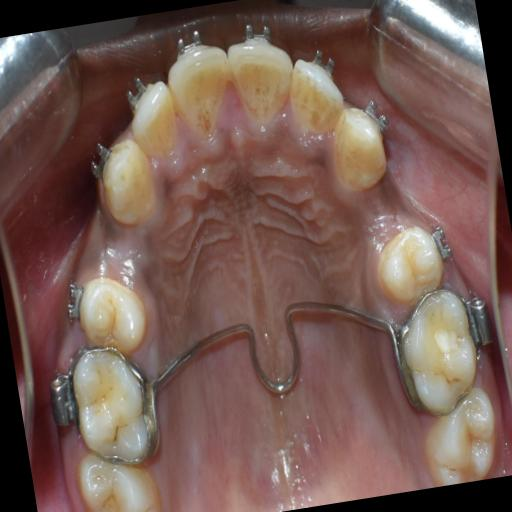correct_brace: (62, 268, 152, 360), (370, 222, 462, 304), (81, 124, 120, 178), (237, 9, 281, 55), (305, 36, 339, 90), (120, 62, 153, 110), (172, 26, 208, 68), (359, 94, 390, 138)
incorrect_brace: (288, 40, 348, 144), (122, 62, 180, 156), (426, 220, 457, 267), (62, 274, 90, 326)
